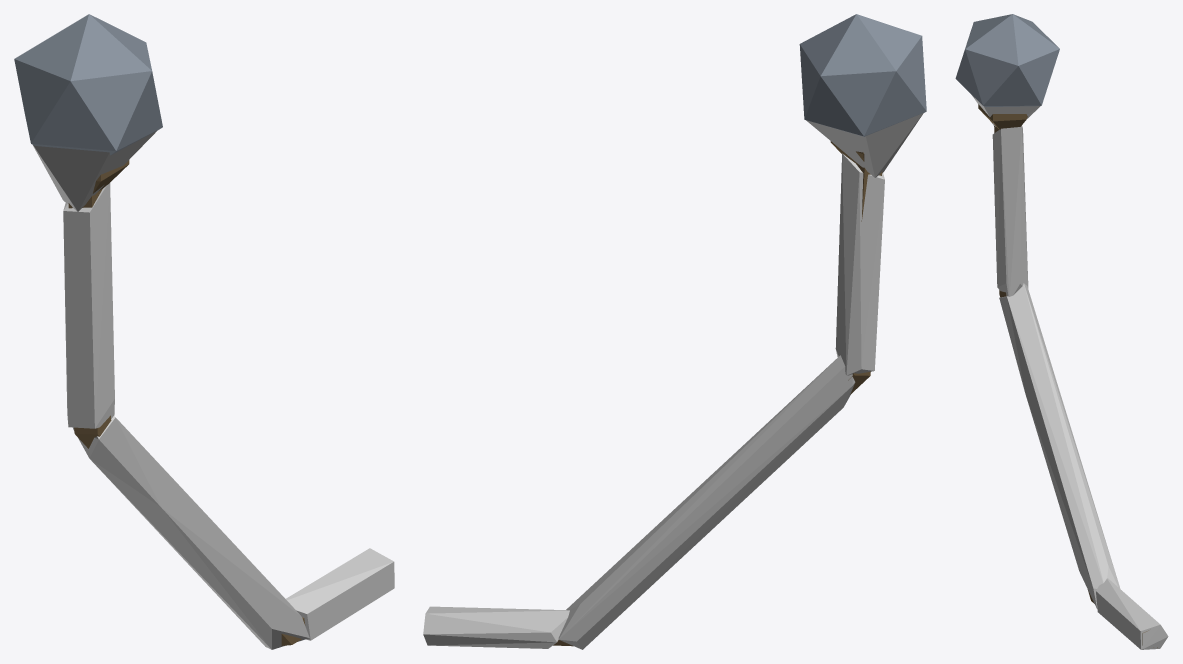
The model's file is SM_Bld_Planetarium_01_Middle_moon.fbx.
3 renders of one model, left to right at view 1: azimuth 30°, elevation 25°; view 2: azimuth 150°, elevation 25°; view 3: azimuth 270°, elevation 25°, orthographic. The views are drawn at different scales.
Parts seen in each view (by area): view 1: SM_Bld_Planetarium_01_Middle_moon_ConvexHulls, SM_Bld_Planetarium_01_Middle_moon; view 2: SM_Bld_Planetarium_01_Middle_moon_ConvexHulls, SM_Bld_Planetarium_01_Middle_moon; view 3: SM_Bld_Planetarium_01_Middle_moon_ConvexHulls, SM_Bld_Planetarium_01_Middle_moon.
Boxes of the visible parts, x1,y1,x2,y2 form: SM_Bld_Planetarium_01_Middle_moon_ConvexHulls: [33, 130, 394, 649]; SM_Bld_Planetarium_01_Middle_moon: [14, 14, 305, 645]; SM_Bld_Planetarium_01_Middle_moon_ConvexHulls: [423, 113, 923, 649]; SM_Bld_Planetarium_01_Middle_moon: [553, 14, 926, 646]; SM_Bld_Planetarium_01_Middle_moon_ConvexHulls: [972, 95, 1168, 649]; SM_Bld_Planetarium_01_Middle_moon: [955, 14, 1157, 647].
Size of the model in its own units: 42.42 by 24.53 by 64.41.
2 materials, 1 textured.
